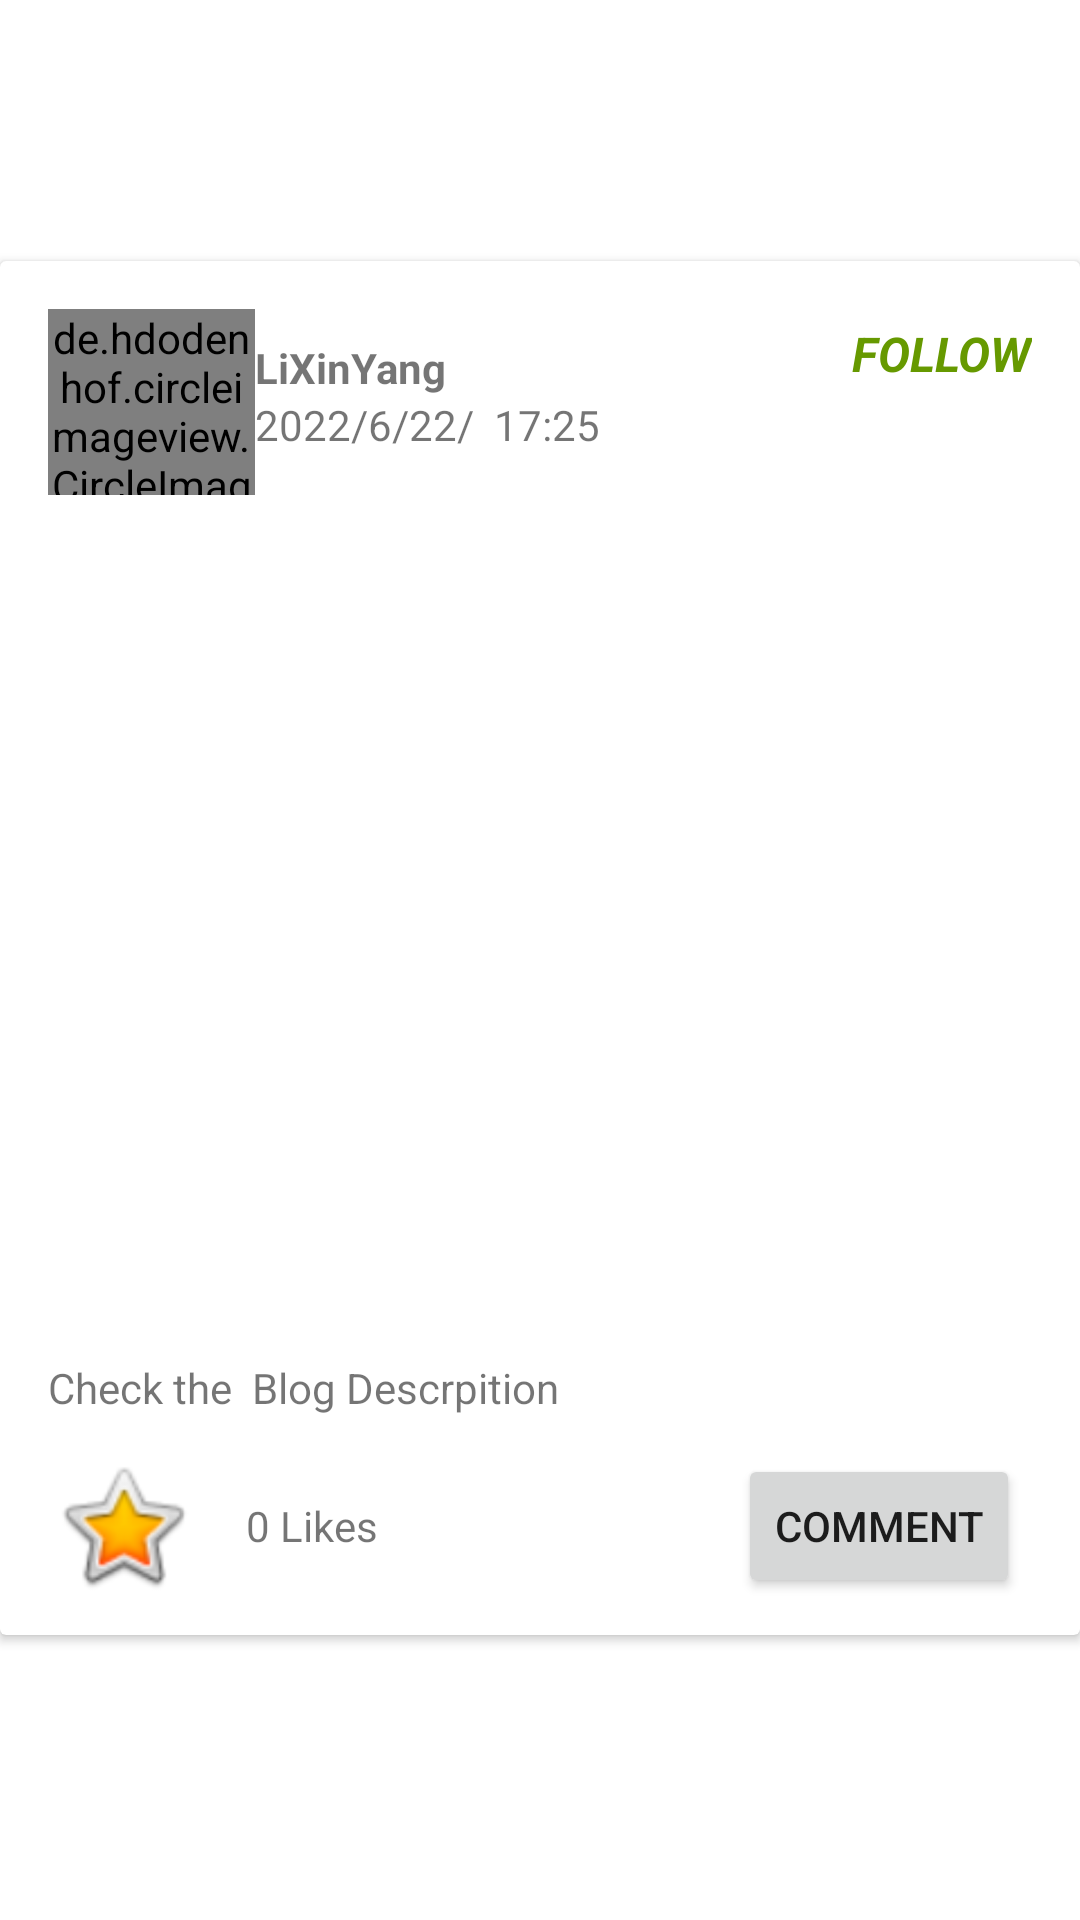

Screen size 1080×1920. Icon name, then its box in pixels as (x1, y1, x2, y2):
star on: (64, 1468, 184, 1586)
